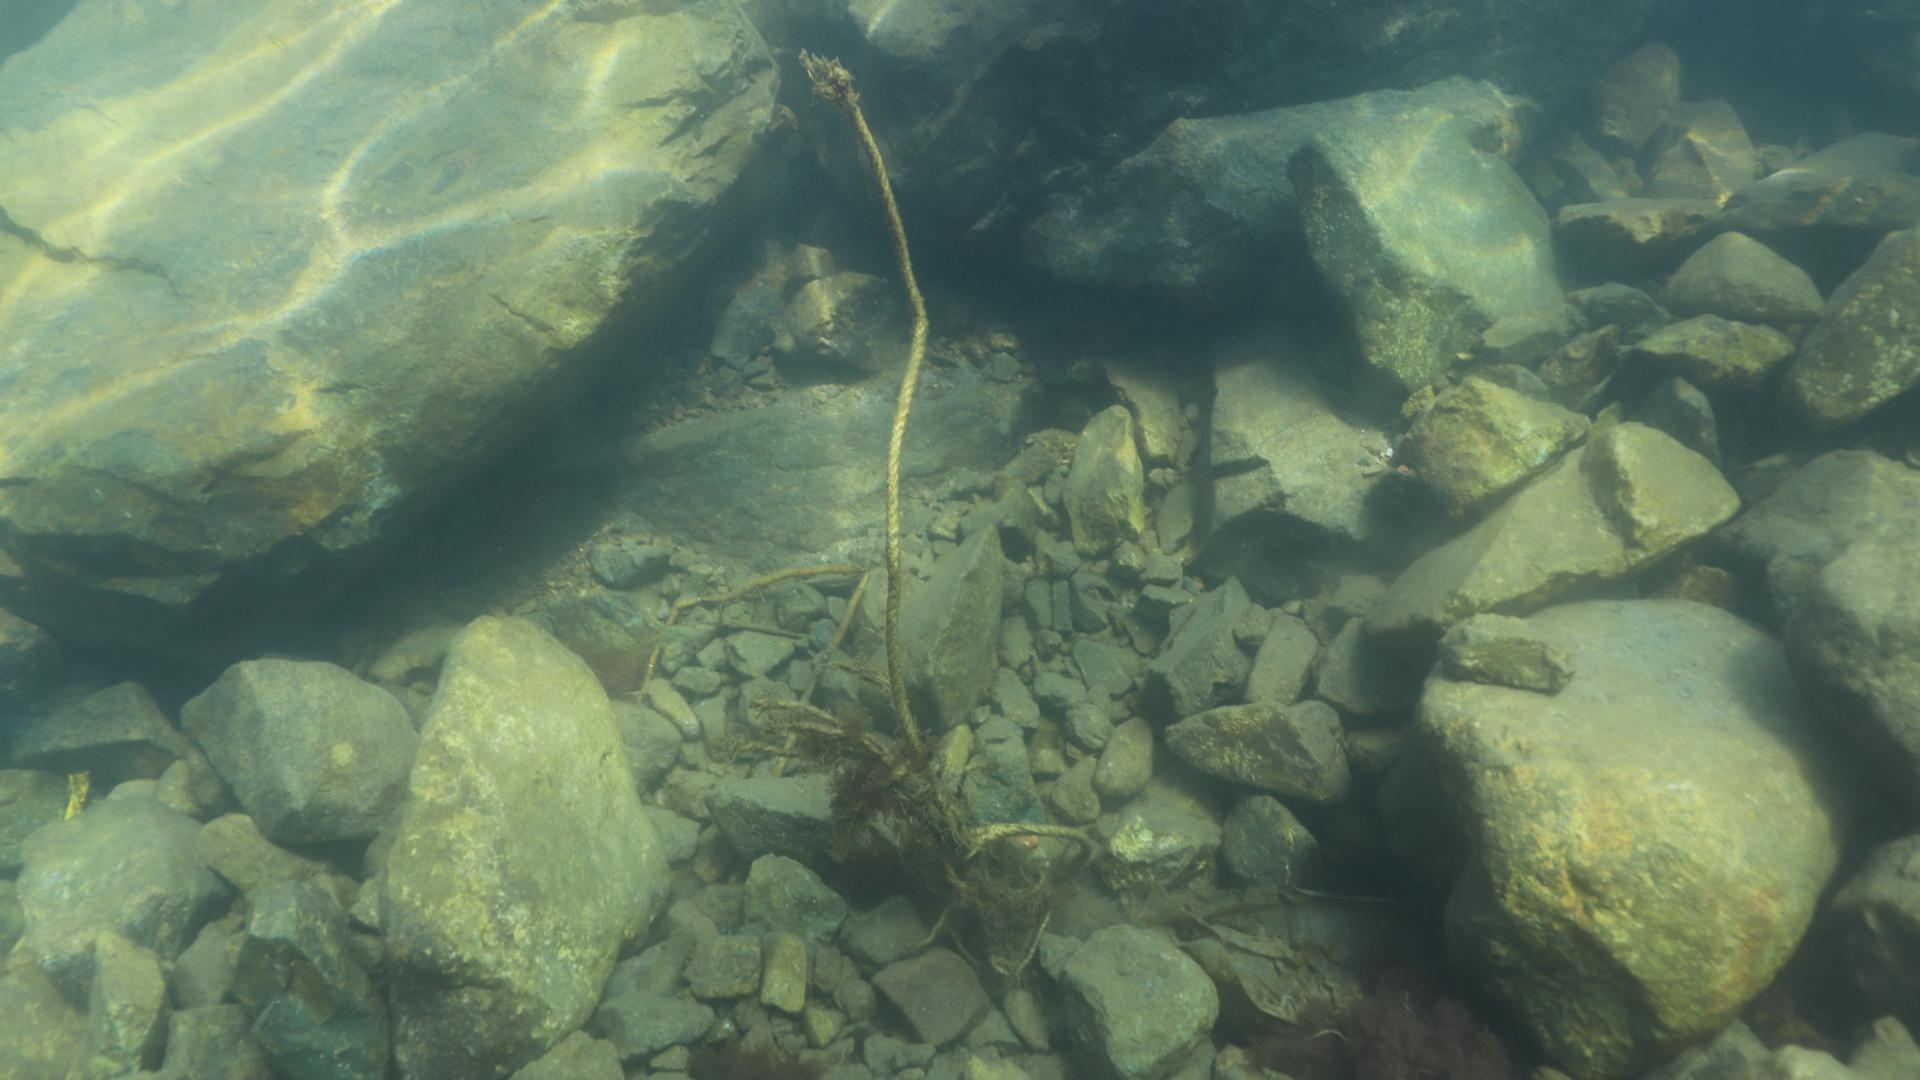bundle of ropes: (735, 99, 1093, 849)
